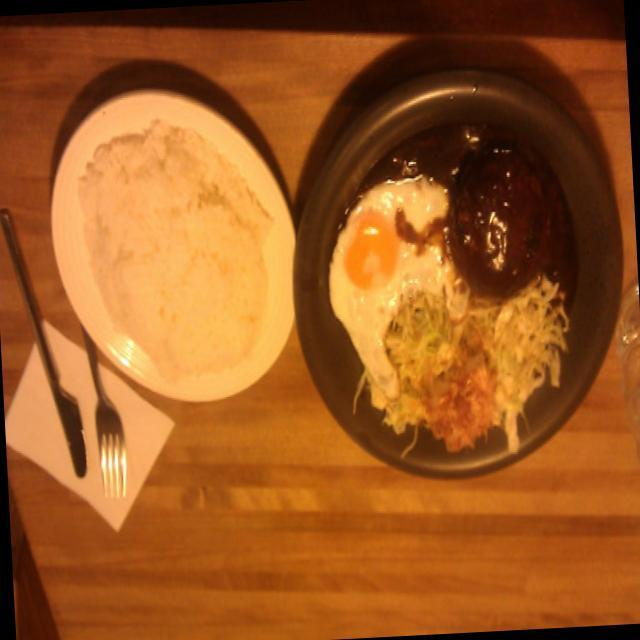Egg: (328, 190, 442, 366)
Rice: (76, 132, 277, 391)
